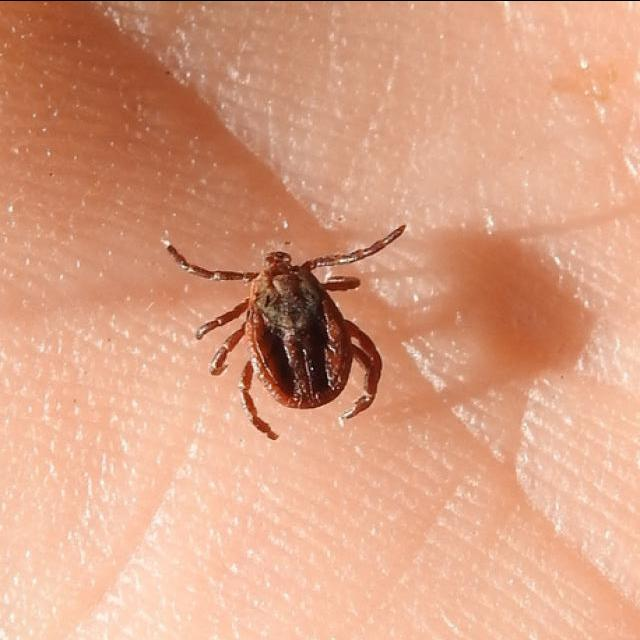Dermacentor Reticulatus-F: (166, 224, 405, 438)
